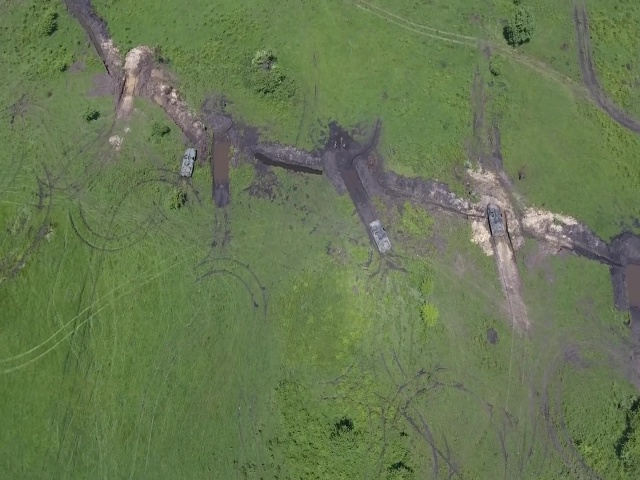vehicle: (368, 218, 393, 254), (485, 202, 505, 237), (179, 145, 197, 179)
